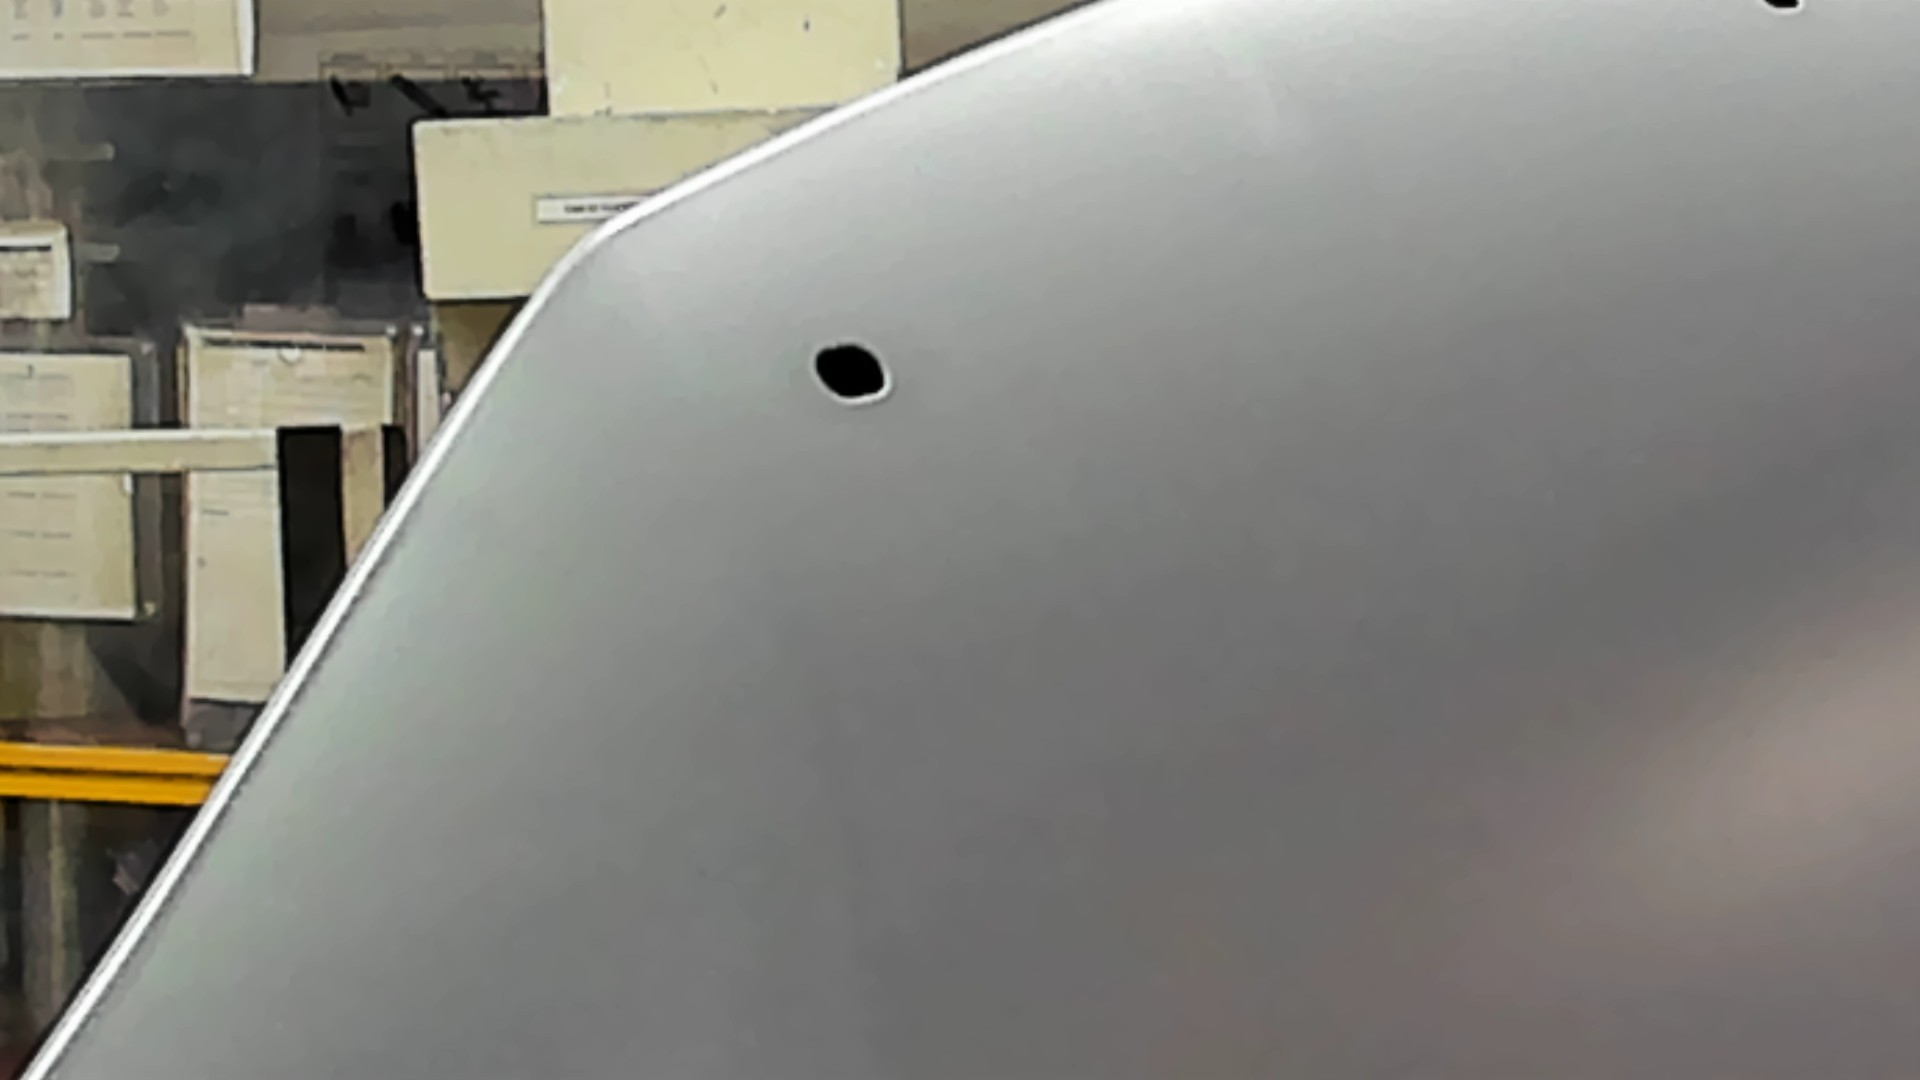amorfo: (808, 338, 895, 410), (1759, 1, 1813, 18)
